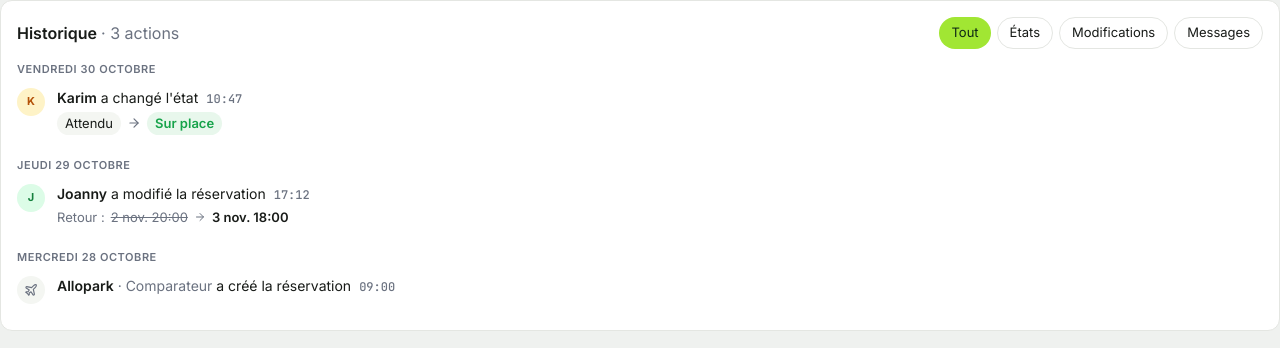
ReservationHistory › filters by kind of action
The width and height of the screenshot is (1280, 348).
Click the button with test id "history-filter-status": (1025, 33) [997, 17, 1053, 49]
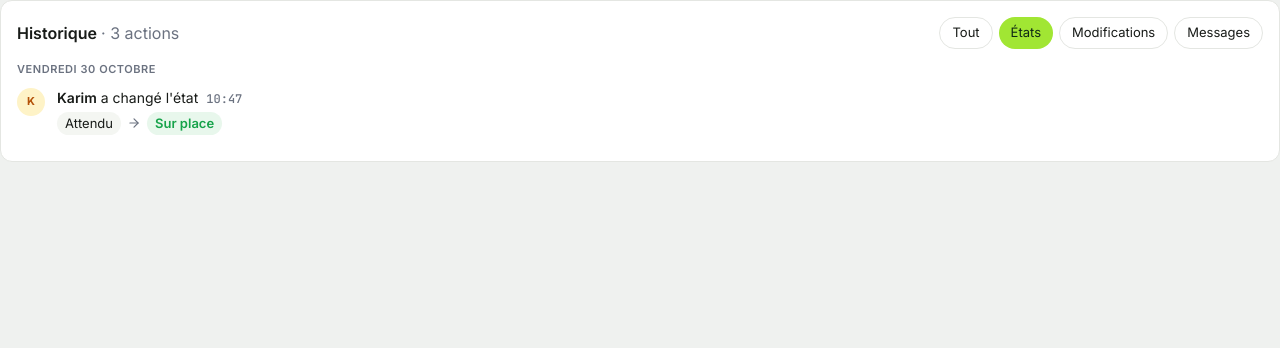
Expected: the number of list items with test id "history-event" is 1, [17, 88, 242, 135]
Click the button with test id "history-filter-message": (1219, 33) [1174, 17, 1263, 49]
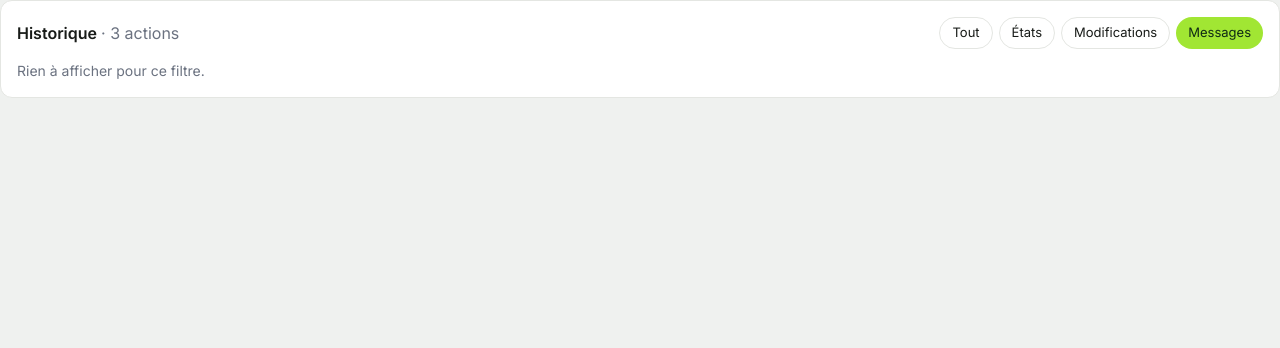
Expected: the text "Rien à afficher pour ce filtre." is shown, [17, 62, 205, 79]
